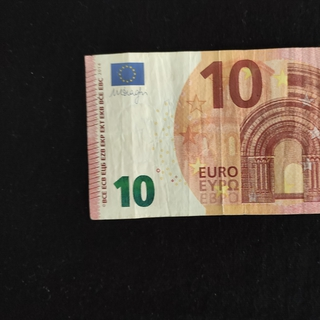10EUROFront: (83, 44, 320, 221)
